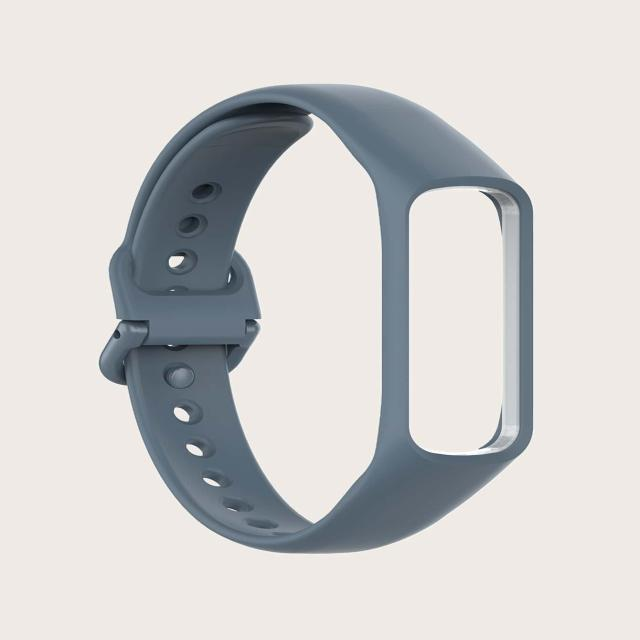bracelet: (68, 16, 580, 572)
